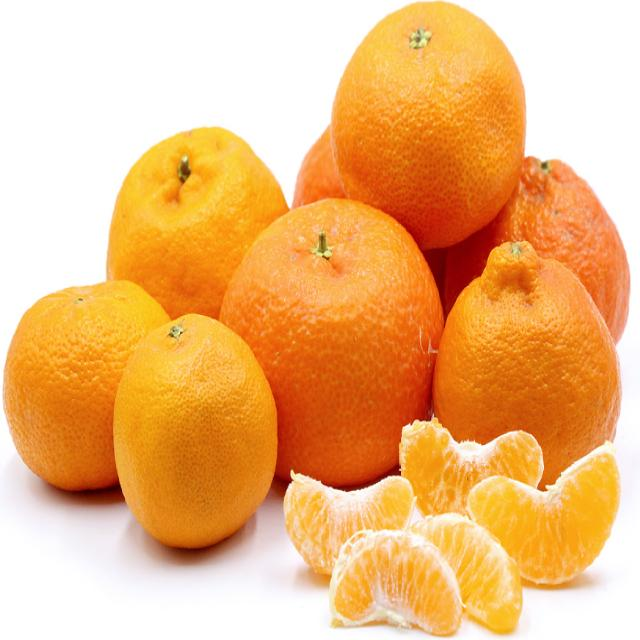10_tangerine: (218, 192, 440, 503), (424, 227, 628, 518), (331, 0, 526, 252), (442, 140, 634, 364), (100, 126, 302, 334), (115, 308, 282, 559), (0, 276, 182, 502), (466, 441, 622, 601), (405, 511, 532, 639), (332, 523, 462, 640), (276, 472, 417, 578)
